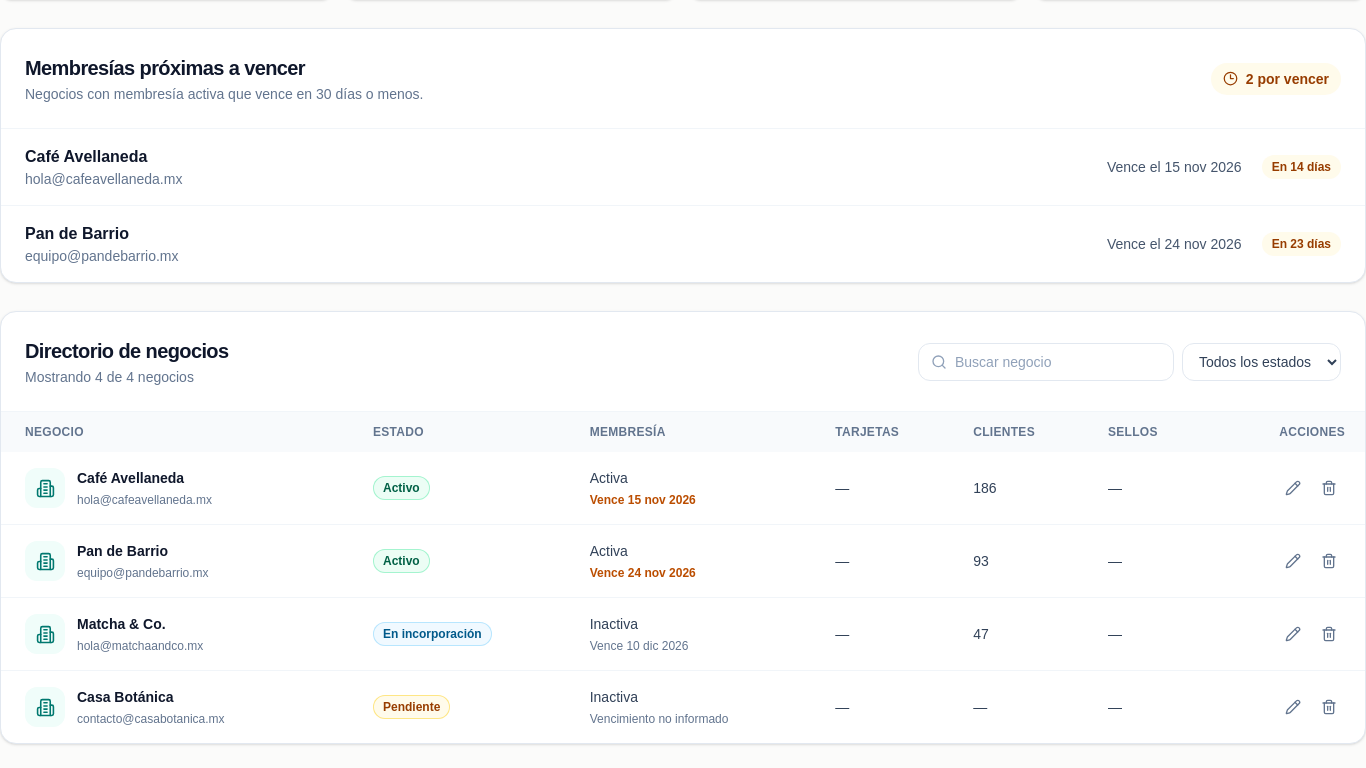
Administración del directorio de negocios › edita un negocio y persiste su nombre y estado
(page scrolled)
Click the button named "Editar Café Avellaneda" at point(1293, 488), box [1277,472,1309,504]
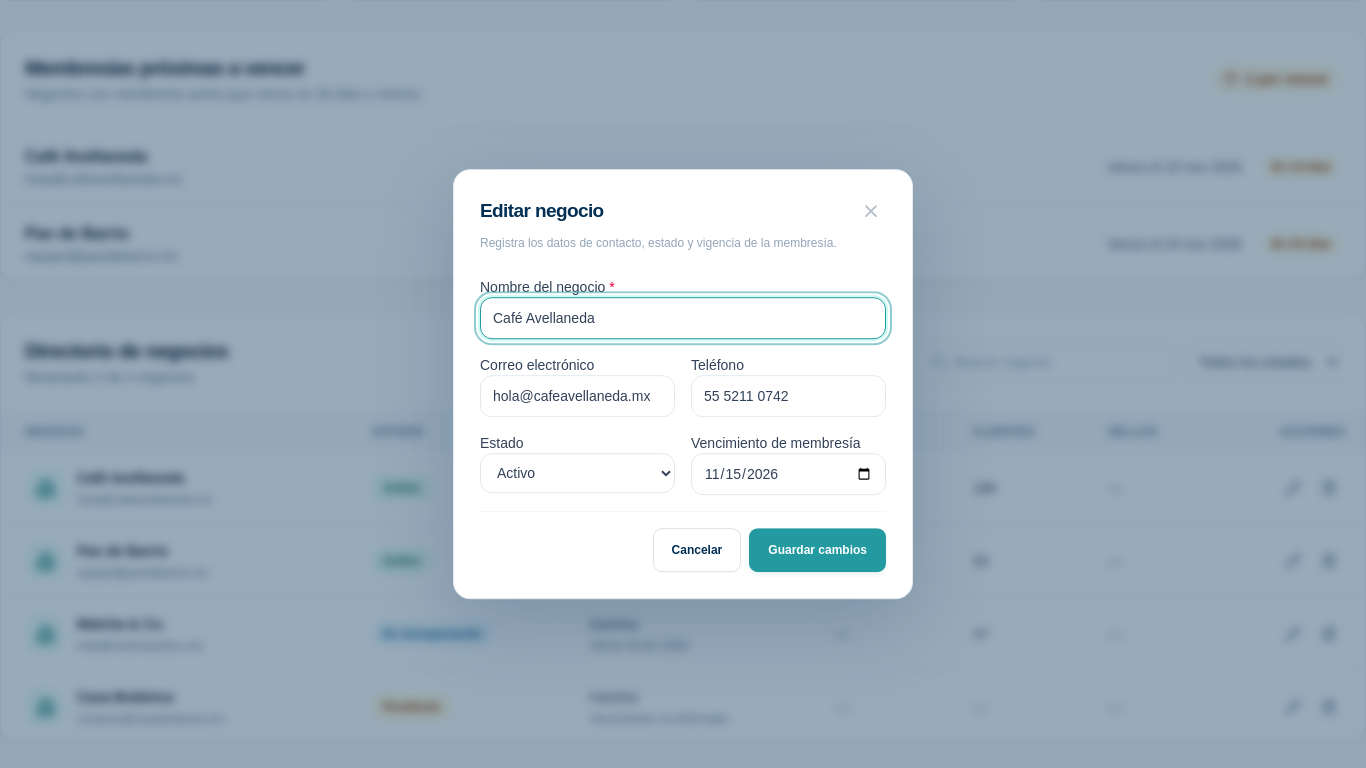
Replace the text in the field labelled "Nombre del negocio *" with "Café Avellaneda Centro" at point(683, 318), box [480,297,886,339]
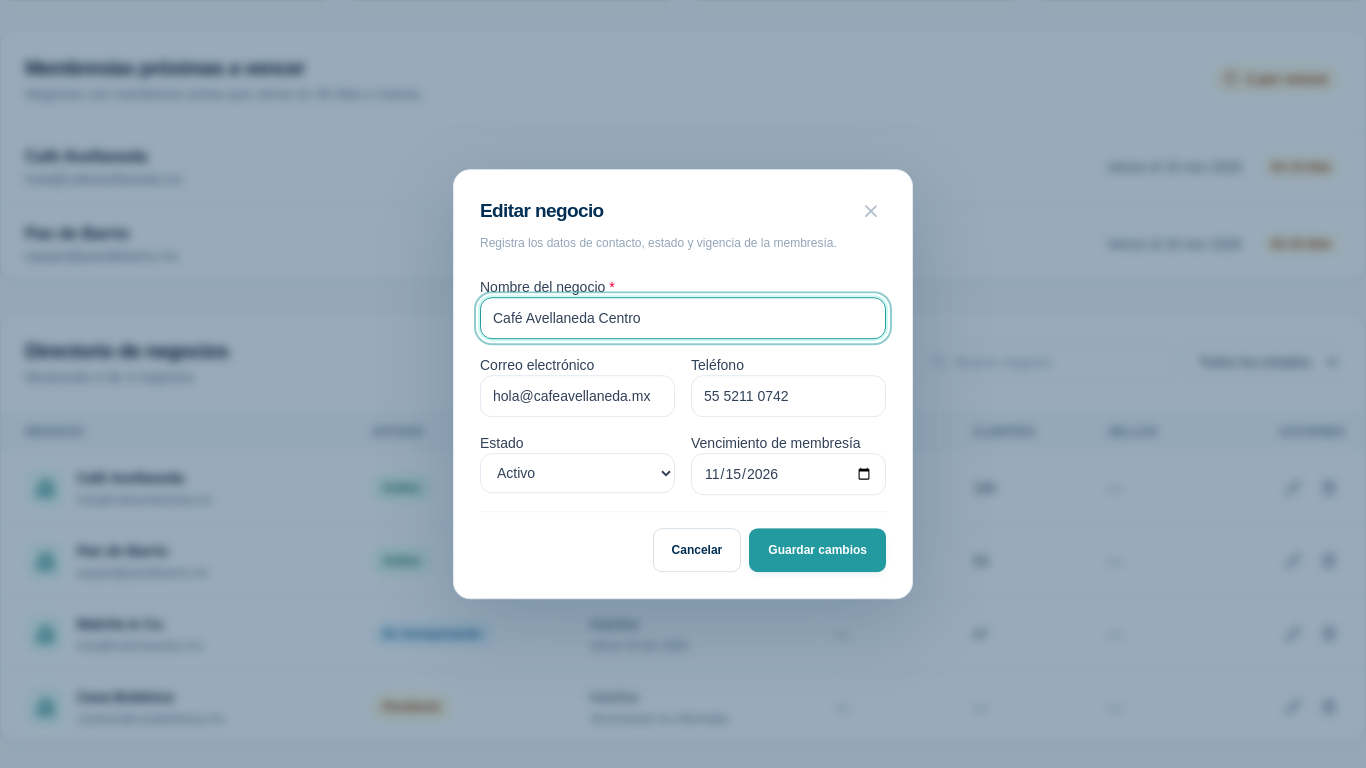
Select "En incorporación" in the dropdown labelled "Estado" at point(578, 473), box [480,453,675,493]
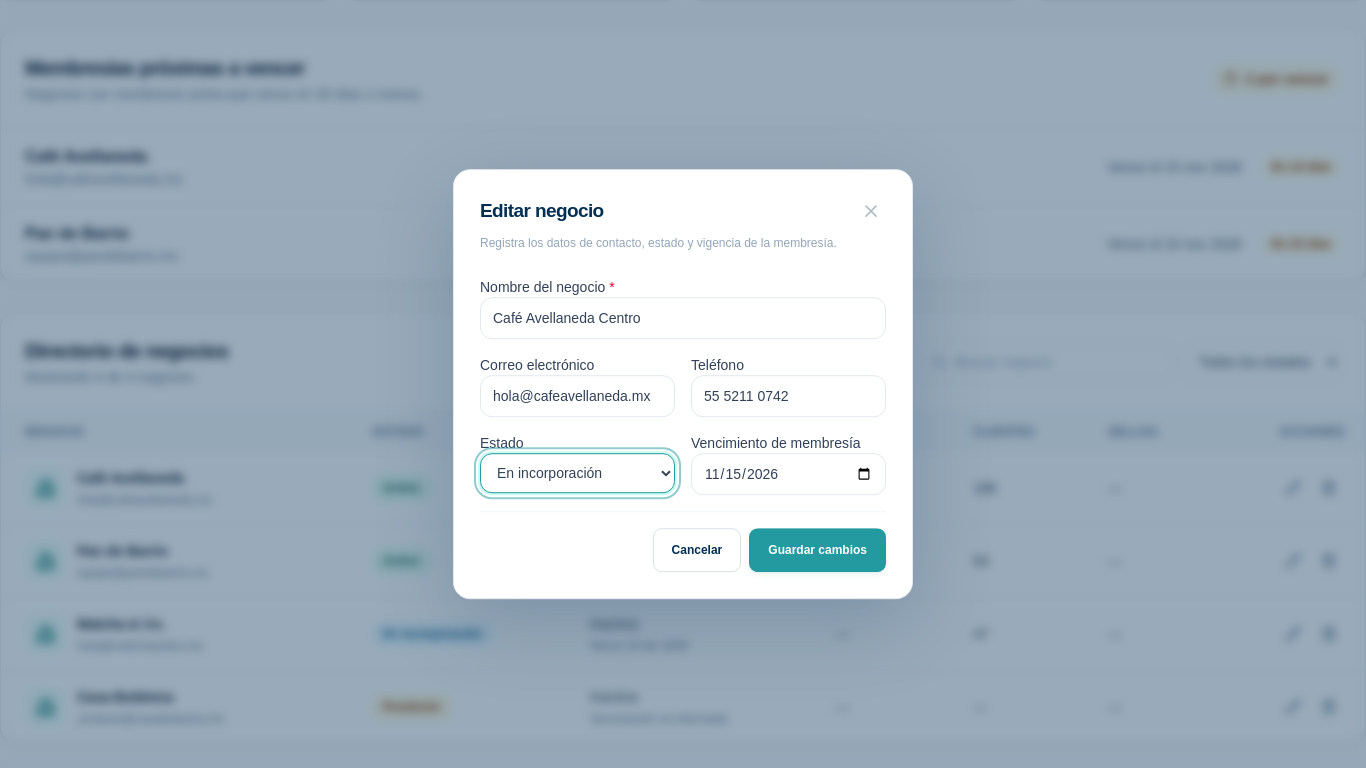
Click the button "Guardar cambios" at point(818, 550), box [749,528,886,572]
(page scrolled)
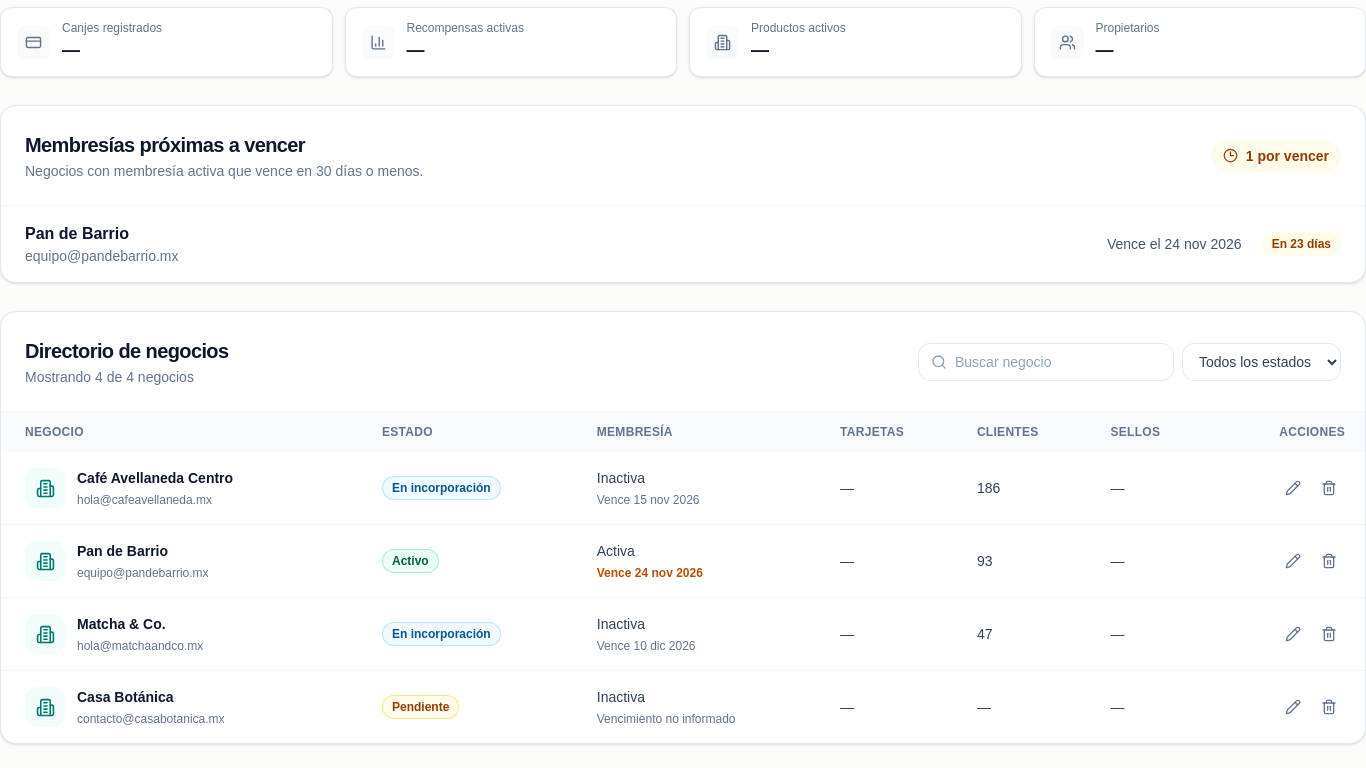
Check: the text "Café Avellaneda" reads "Café Avellaneda Centro", box [77,470,233,486]
